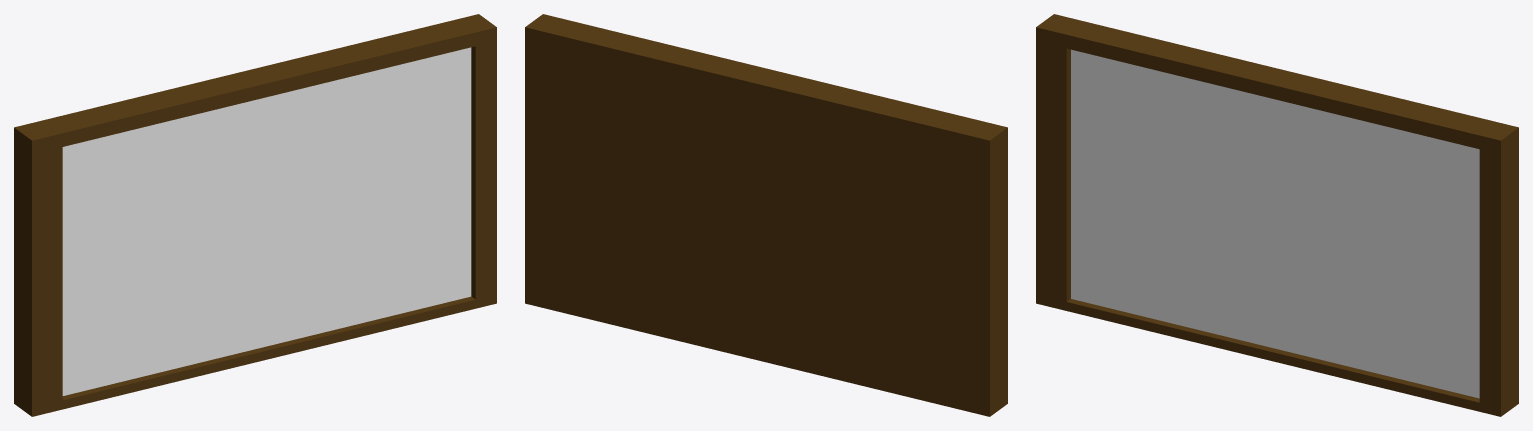
Rendered from frame.FBX.
3 views of the same model, side by side, from view 1: azimuth 30°, elevation 25°; view 2: azimuth 150°, elevation 25°; view 3: azimuth 330°, elevation 25° (orthographic).
Visible parts, largest first — view 1: Box001; view 2: Box001; view 3: Box001.
Part boxes in pixels (x1,y1,x2,y2): Box001: (14, 14, 496, 416); Box001: (525, 14, 1007, 416); Box001: (1036, 14, 1518, 416).
Bounding box in the file's own units: 49.57 × 28.16 × 3.35.
